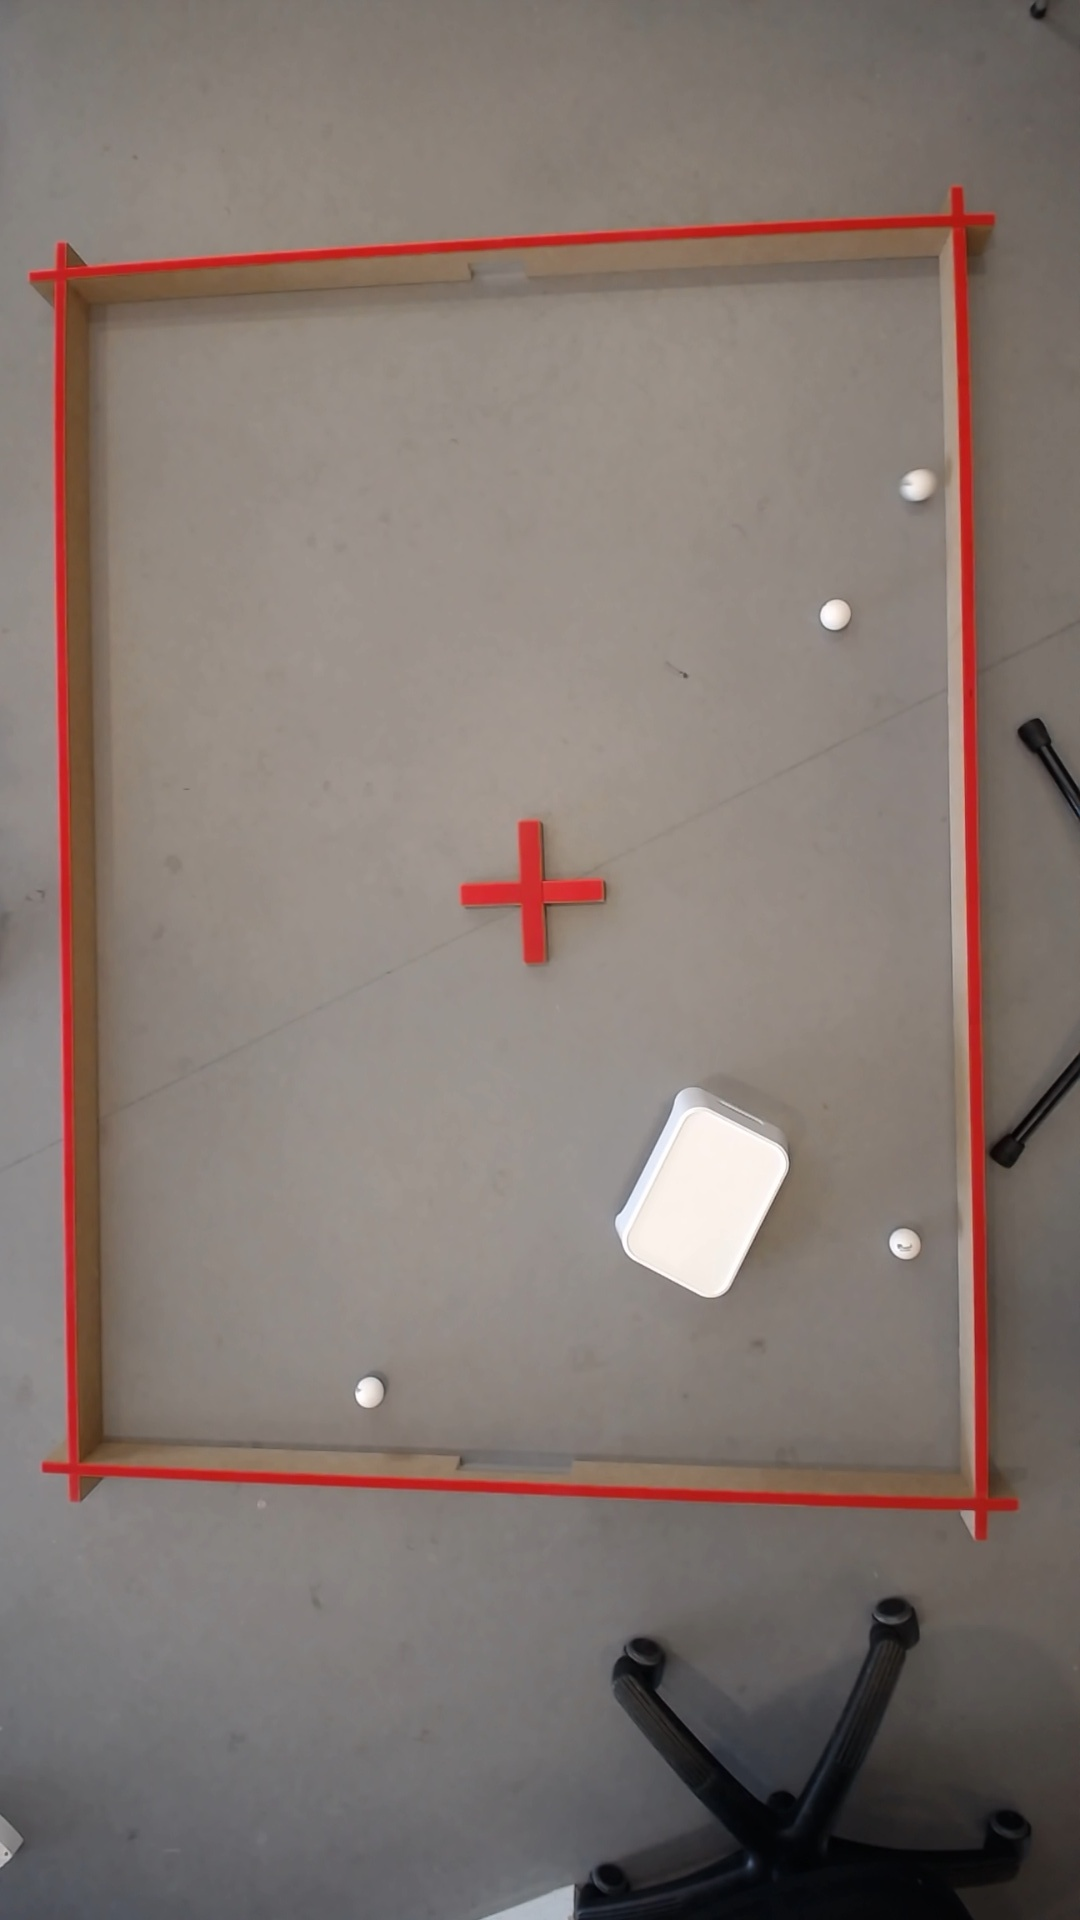balls: (600, 1087, 798, 1304), (884, 1225, 920, 1263), (815, 593, 851, 633), (355, 1377, 378, 1407)
car: (898, 464, 932, 502)
